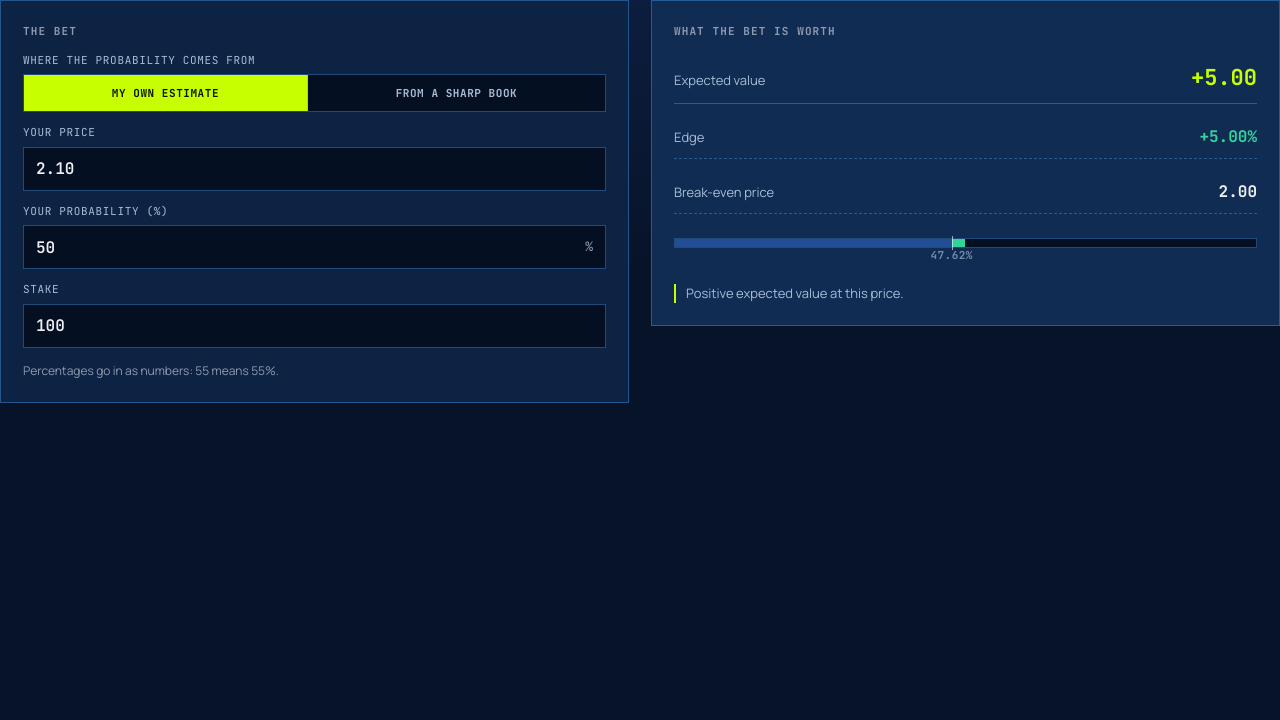
Test: ev calculator › in modalità sharp deduce la probabilità togliendo il margine
Click the button "From a sharp book". click: [456, 93]
box: [308,75,605,111]
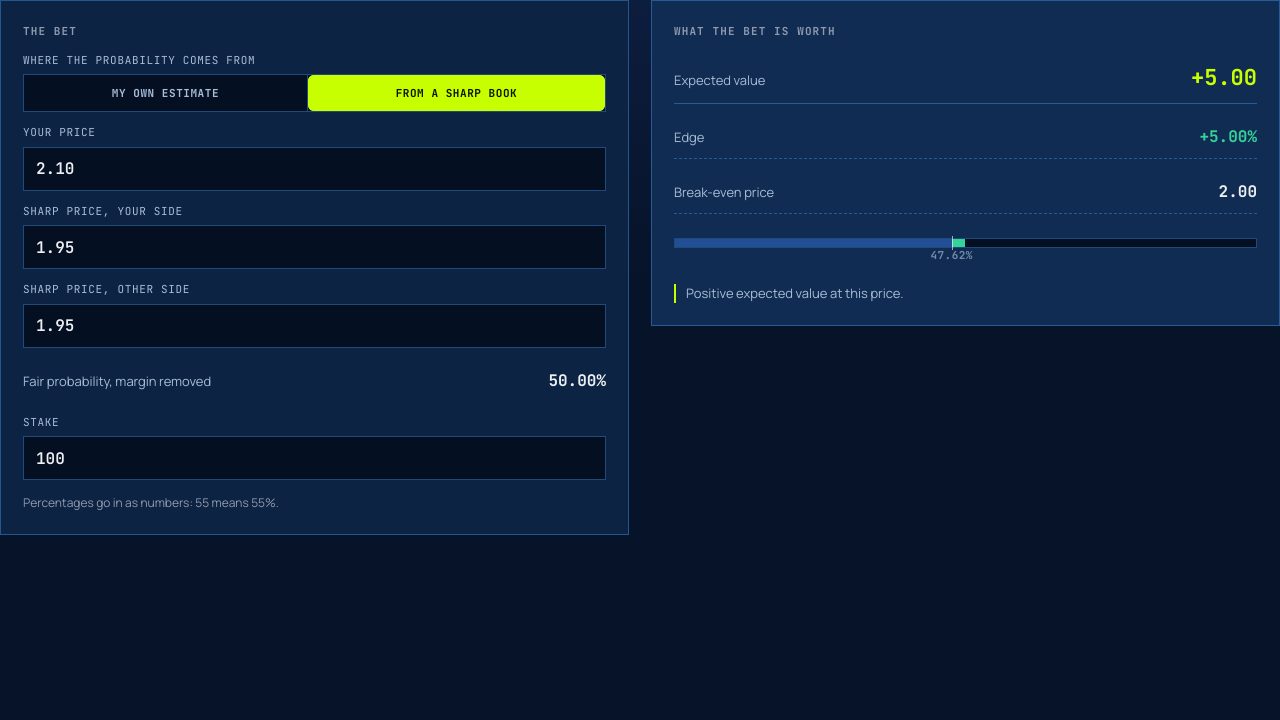
Type "1.90" into the field labelled "Sharp price, your side". click: [314, 247]
box: [24,226,605,268]
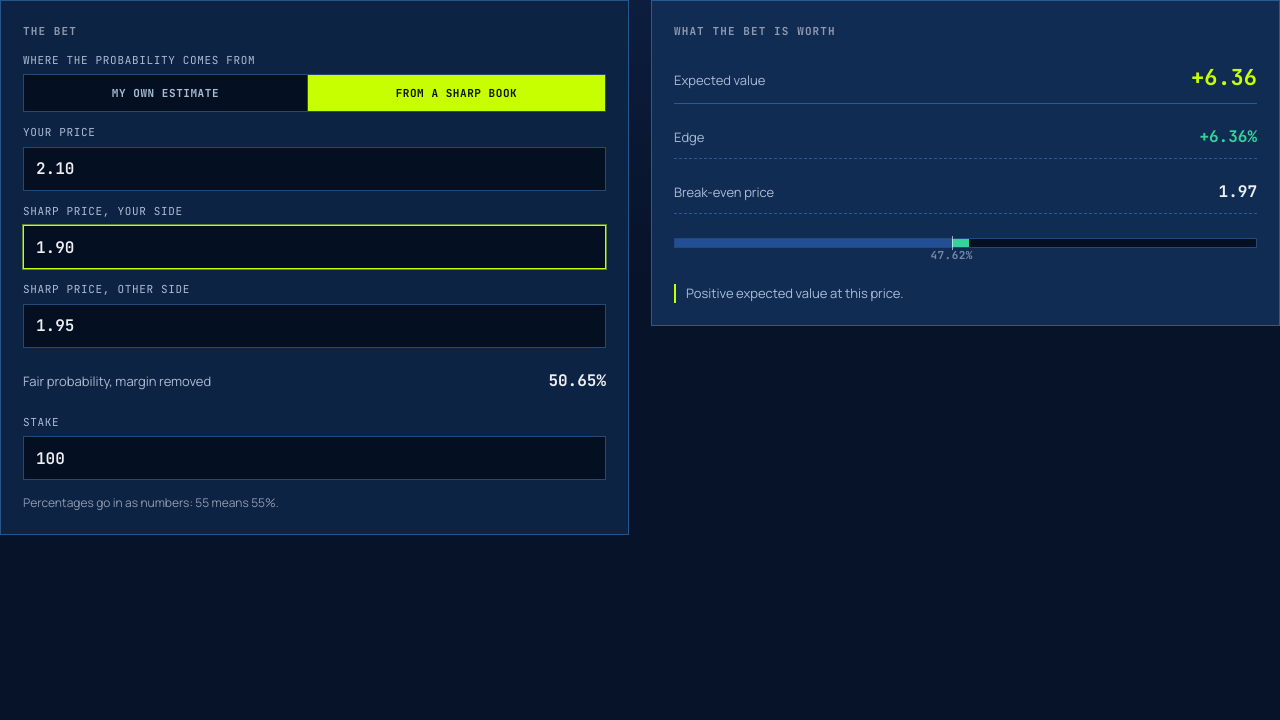
Type "1.90" into the field labelled "Sharp price, other side". click: [314, 326]
box: [24,304,605,346]
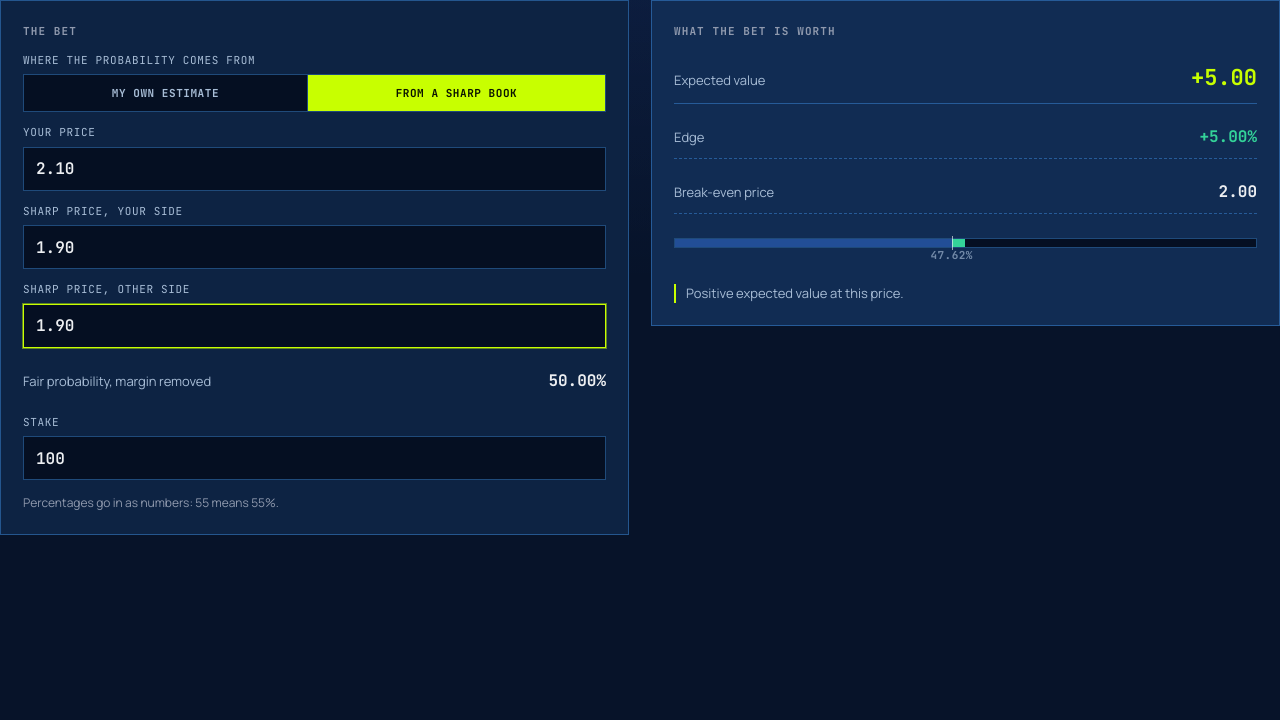
Now the text with test id "out-derived" reads "50.00%", box [548,370,606,390]
